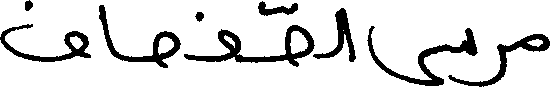ا: (96, 3, 114, 58), (339, 6, 355, 62)
ر: (484, 41, 506, 84)
س: (448, 25, 476, 62)
ص: (281, 1, 314, 68), (151, 28, 179, 67)
ف: (0, 0, 89, 63), (194, 11, 241, 63)
ل: (337, 6, 342, 54)
م: (519, 32, 548, 52)
ى: (366, 23, 444, 85)
